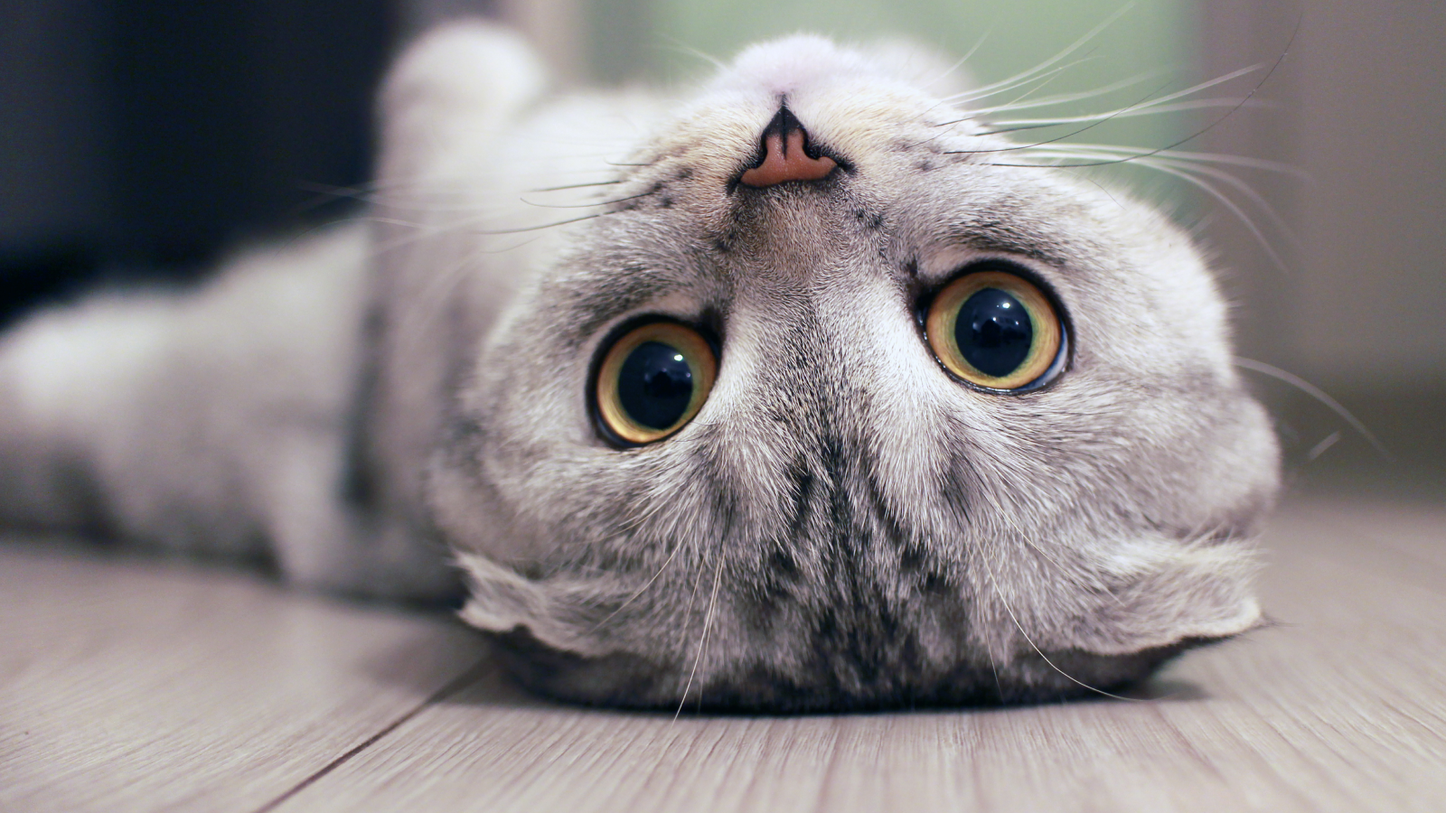Cat: (191, 36, 1347, 717)
